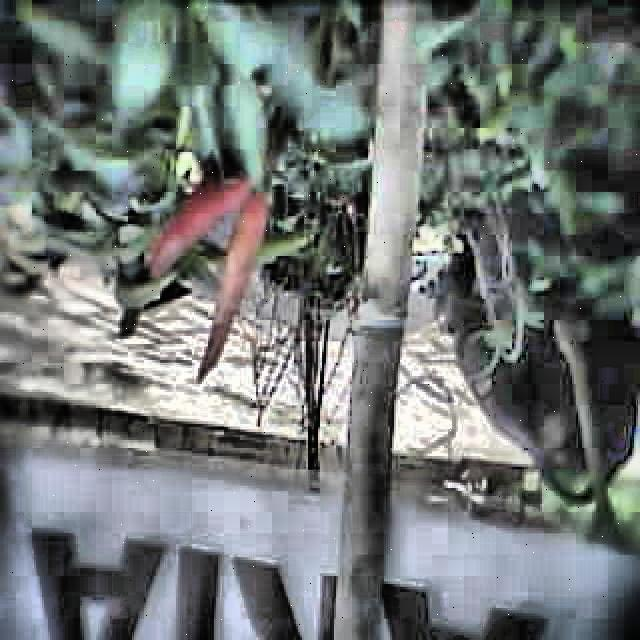Cabai: (198, 190, 265, 389), (152, 164, 257, 268)
